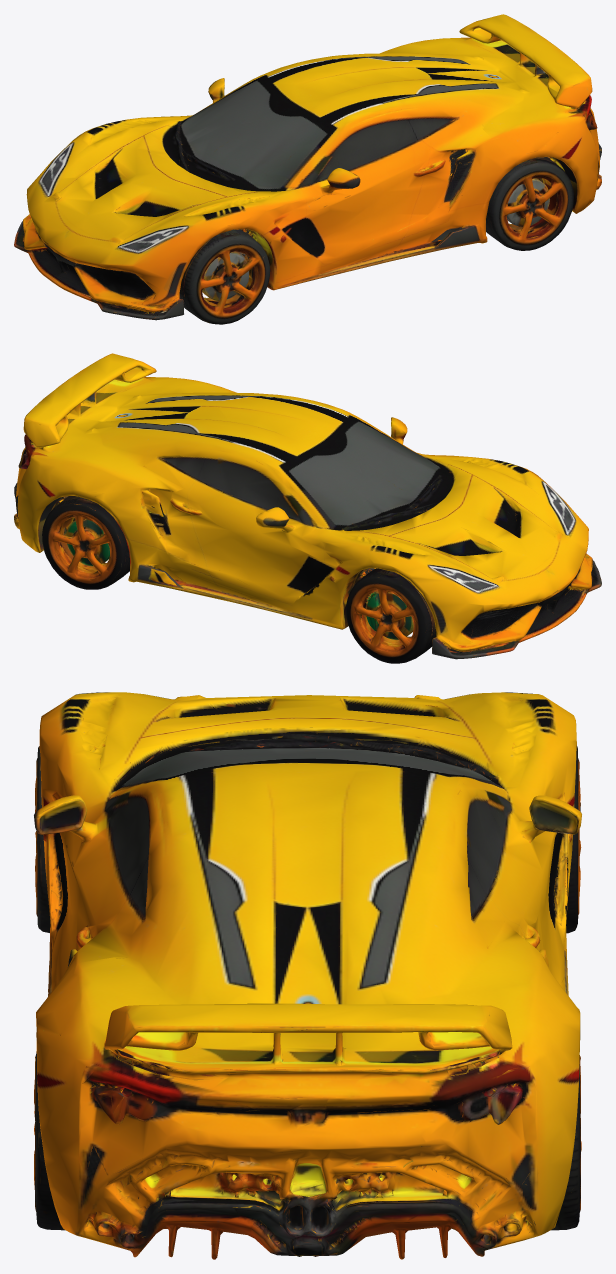
Rendered from Car_yellow.glb.
3 renders of one model, top to bottom at view 1: azimuth 30°, elevation 25°; view 2: azimuth 150°, elevation 25°; view 3: azimuth 270°, elevation 25°, orthographic. The views are drawn at different scales.
Parts seen in each view (by area): view 1: Car_yellow; view 2: Car_yellow; view 3: Car_yellow.
Part boxes in pixels (<box>): Car_yellow: <box>14,14,601,324</box>; Car_yellow: <box>14,353,601,663</box>; Car_yellow: <box>34,692,581,1259</box>.
Size of the model in its own units: 1.91 by 0.5284 by 0.8727.
Materials: 1 (1 with a texture image).
